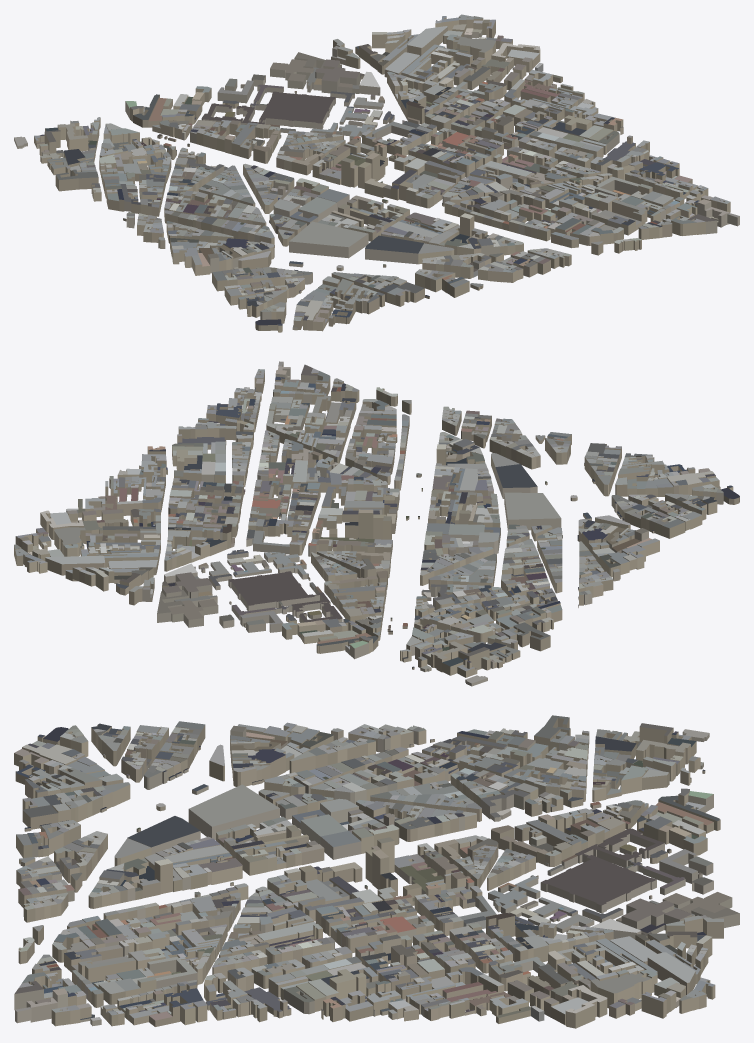
3 views of the same model, one above another, from view 1: azimuth 30°, elevation 25°; view 2: azimuth 150°, elevation 25°; view 3: azimuth 270°, elevation 25° (orthographic). The views are drawn at different scales.
Visible parts, largest first — view 1: tuile; view 2: tuile; view 3: tuile.
Part boxes in pixels (box(x1,y1,x2,y2)): tuile: box(14, 14, 739, 332); tuile: box(14, 361, 739, 686); tuile: box(14, 715, 739, 1028).
Size of the model in its own units: 1069 by 52.96 by 1065.
